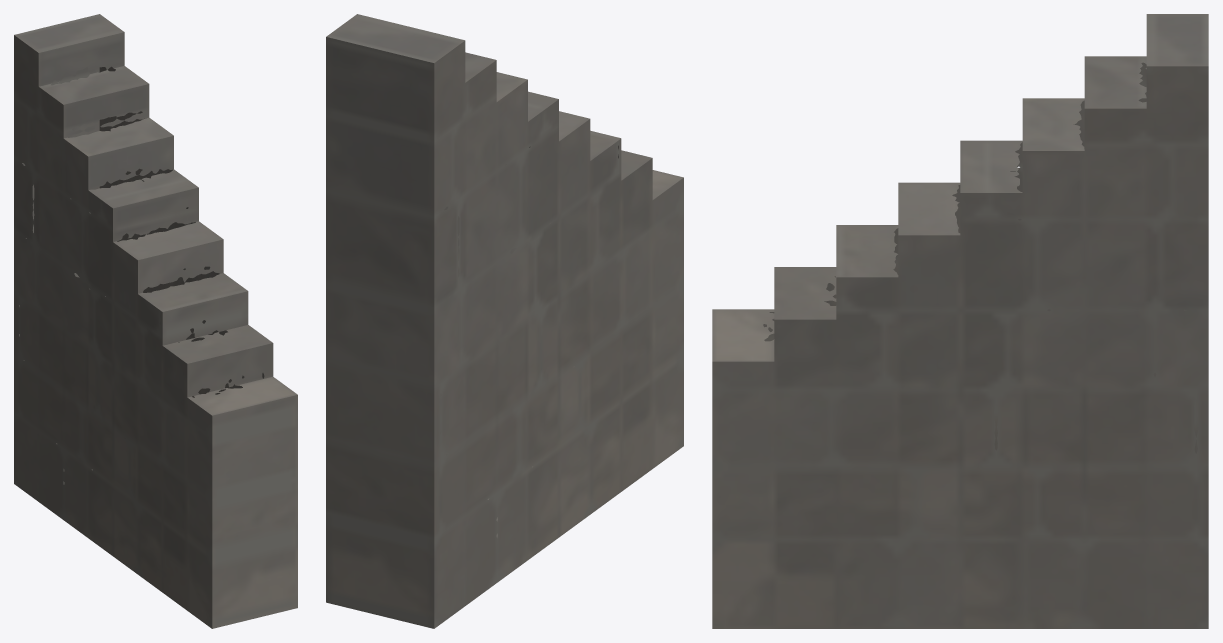
3 renders of one model, left to right at view 1: azimuth 30°, elevation 25°; view 2: azimuth 150°, elevation 25°; view 3: azimuth 270°, elevation 25°, orthographic. The views are drawn at different scales.
Visible parts, largest first — view 1: S21_Baked; view 2: S21_Baked; view 3: S21_Baked.
Part boxes in pixels (x1,y1,x2,y2): S21_Baked: (14,14,297,628); S21_Baked: (326,14,683,628); S21_Baked: (712,14,1208,628).
Bounding box in the file's own units: 50 × 250 × 200.
